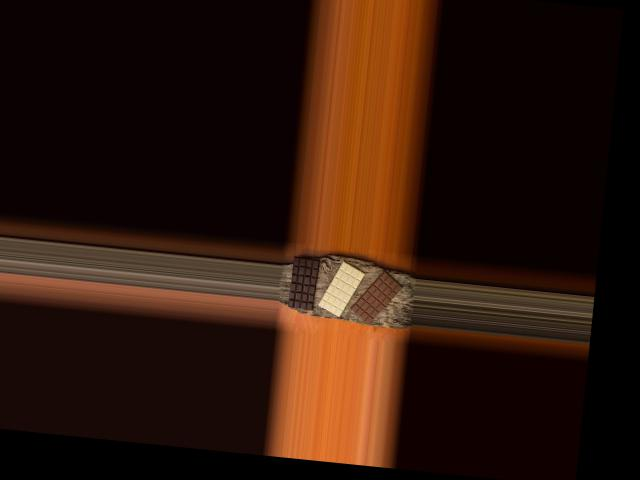chocolate: (287, 255, 319, 310)
